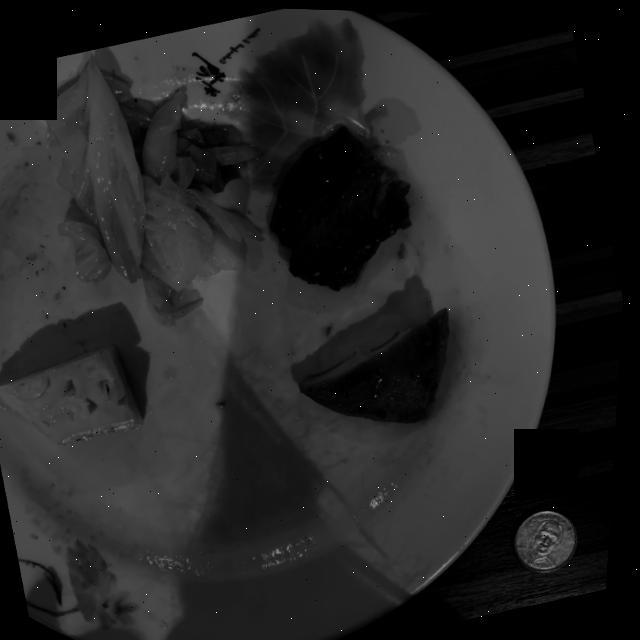Kabayaki sea bream fillet: (272, 124, 412, 288)
cabbage: (42, 59, 264, 322)
coin: (519, 506, 583, 569)
creamy tofu: (303, 305, 452, 420)
pineapple: (0, 342, 147, 444)
